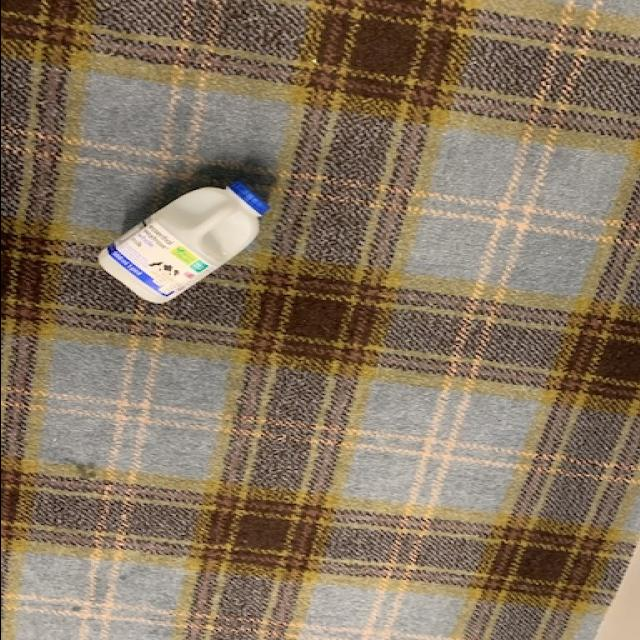HDPEM: (97, 172, 273, 316)
